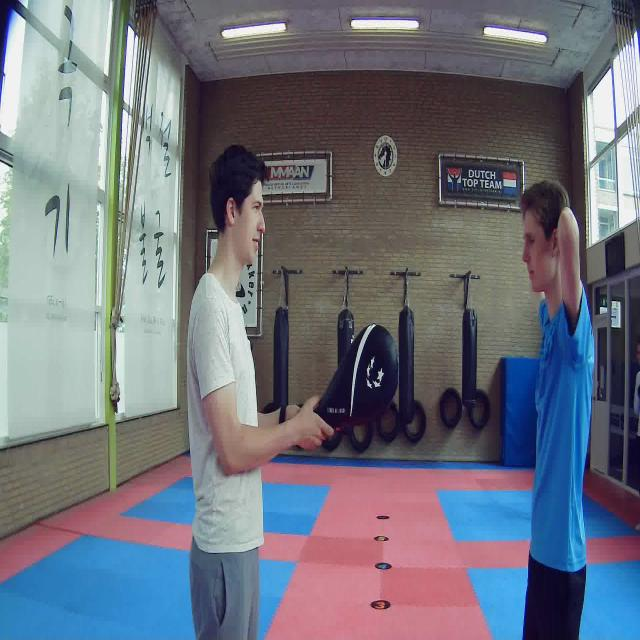paddle: (310, 324, 397, 428)
